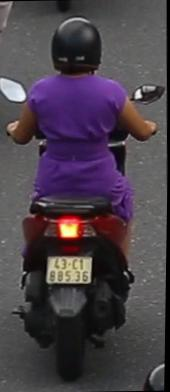LP: (44, 251, 99, 287)
helmet: (42, 10, 110, 84)
